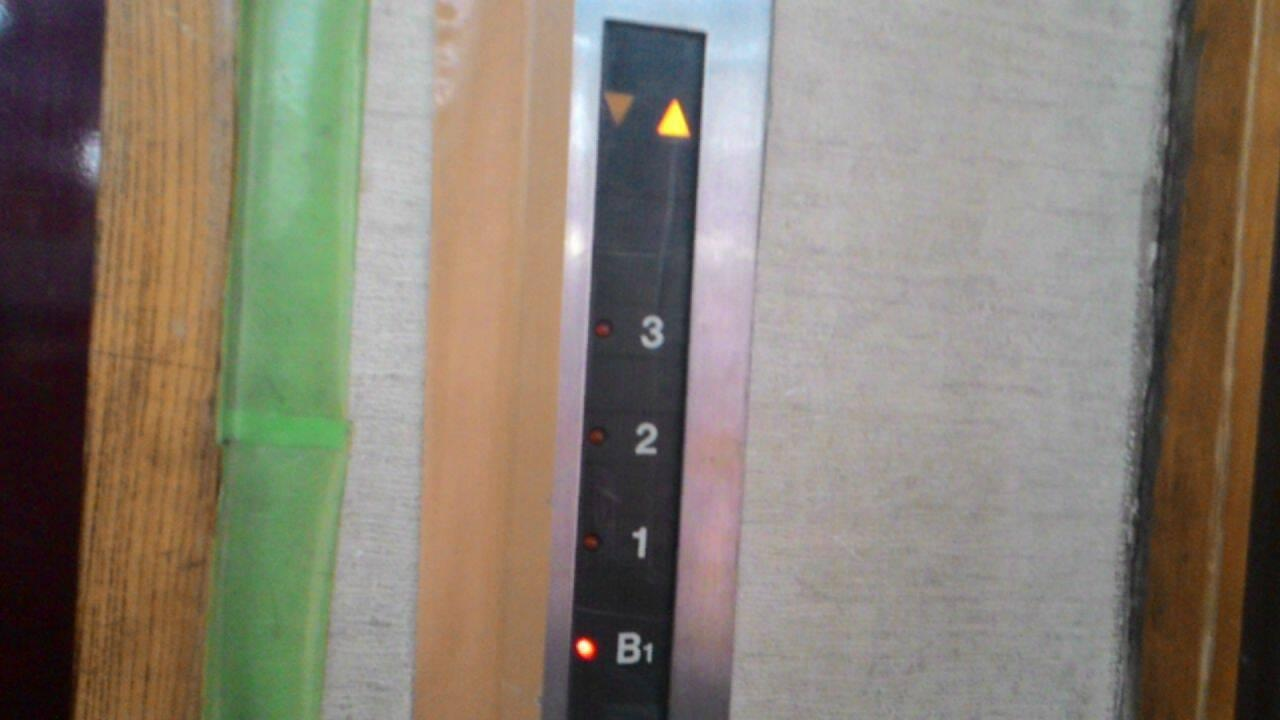1: (572, 510, 682, 579)
2: (577, 406, 689, 463)
3: (585, 297, 691, 363)
B1: (568, 607, 675, 686)
